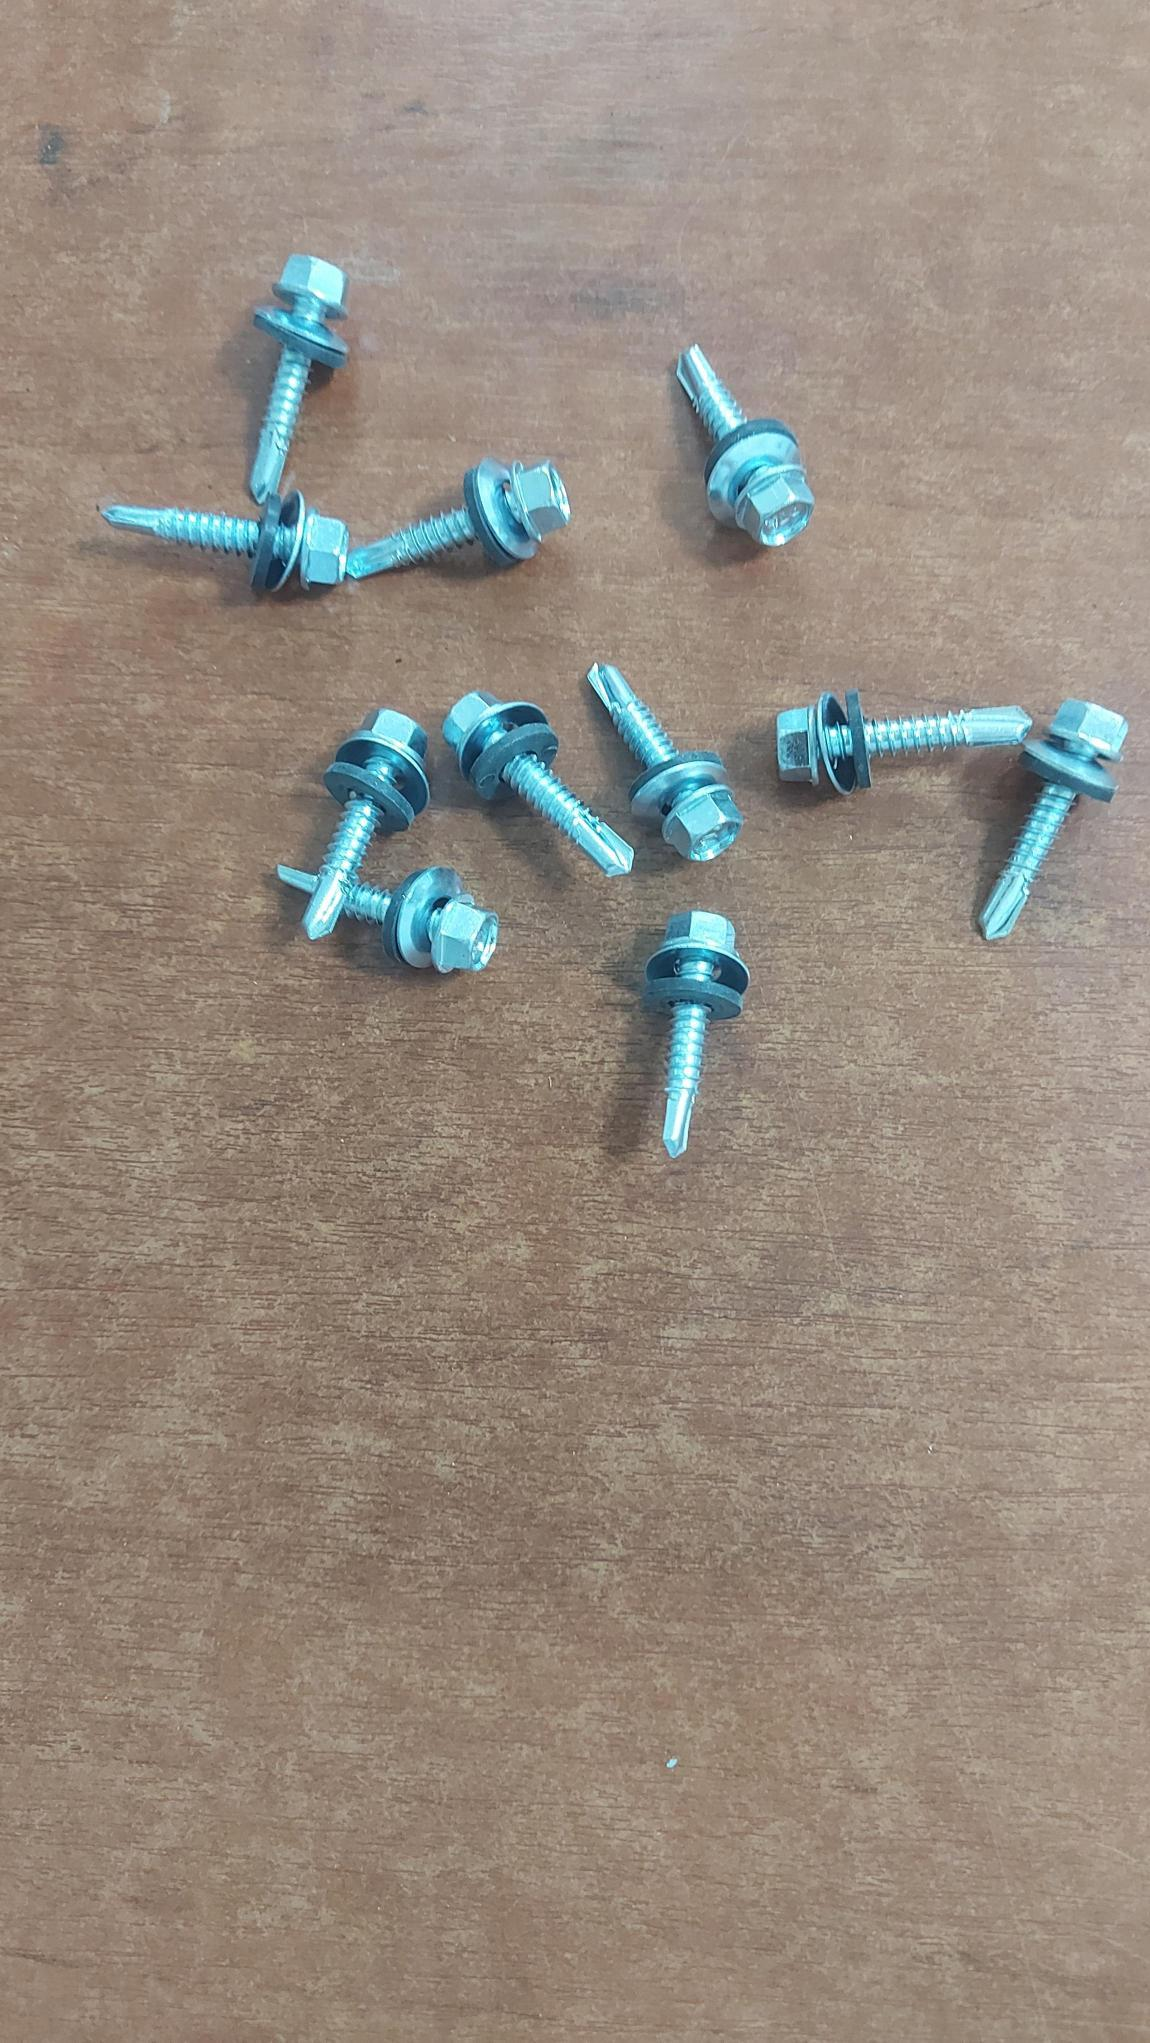Screw: (979, 699, 1128, 939), (443, 690, 632, 874), (588, 662, 742, 862), (303, 709, 428, 937), (677, 345, 813, 547), (348, 457, 569, 578), (777, 690, 1031, 794), (645, 911, 747, 1156), (101, 491, 346, 592), (250, 254, 346, 504), (339, 867, 498, 974), (278, 864, 317, 897)
